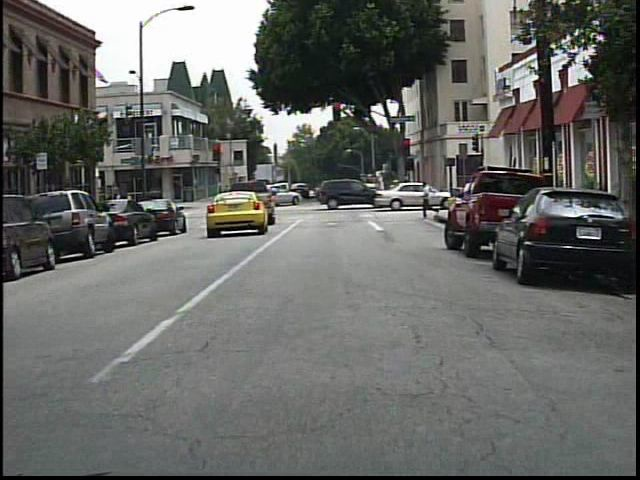person: (418, 178, 441, 221)
